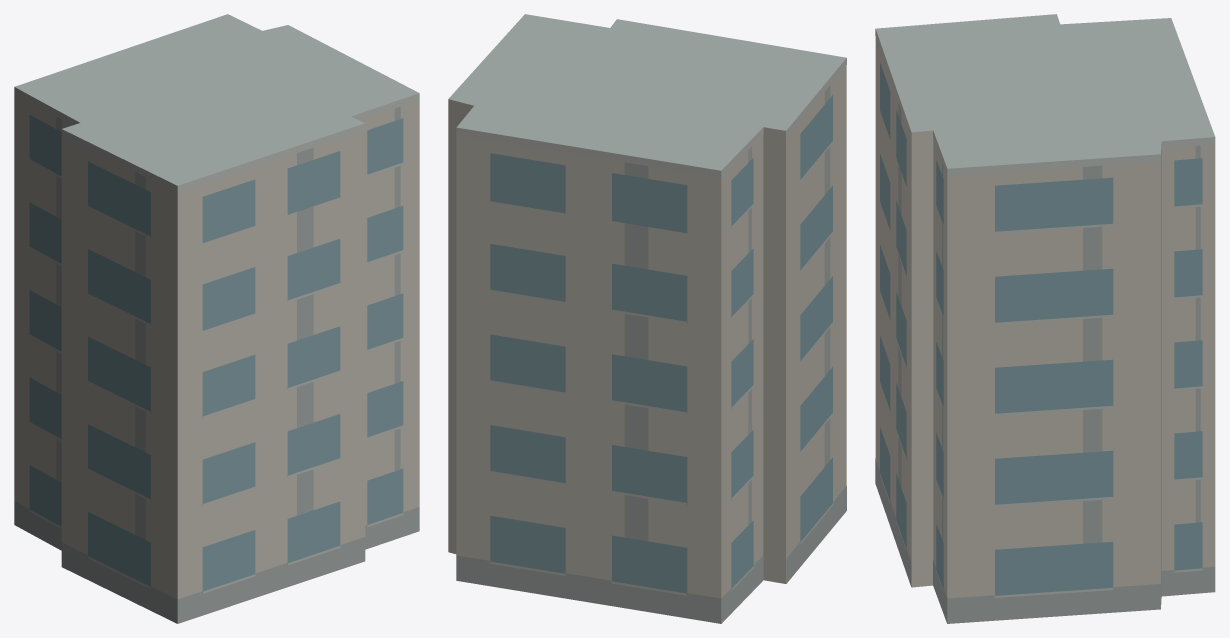
Rendered from survey-upis-32765752.glb.
3 views of the same model, side by side, from view 1: azimuth 30°, elevation 25°; view 2: azimuth 150°, elevation 25°; view 3: azimuth 270°, elevation 25° (orthographic). The views are drawn at different scales.
Parts seen in each view (by area): view 1: survey-upis-32765752.tmp; view 2: survey-upis-32765752.tmp; view 3: survey-upis-32765752.tmp.
Part boxes in pixels (<box>): survey-upis-32765752.tmp: <box>14,14,419,623</box>; survey-upis-32765752.tmp: <box>448,14,846,623</box>; survey-upis-32765752.tmp: <box>875,14,1215,623</box>.
Bounding box in the file's own units: 11.03 × 15.11 × 10.23.
